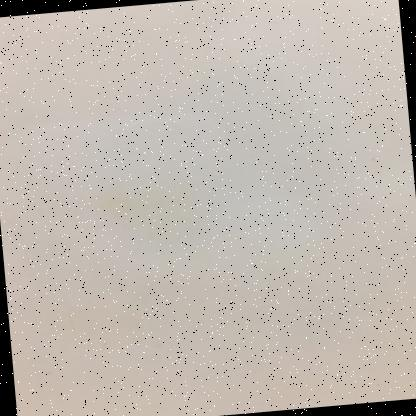Nocrack: (33, 0, 415, 411)
